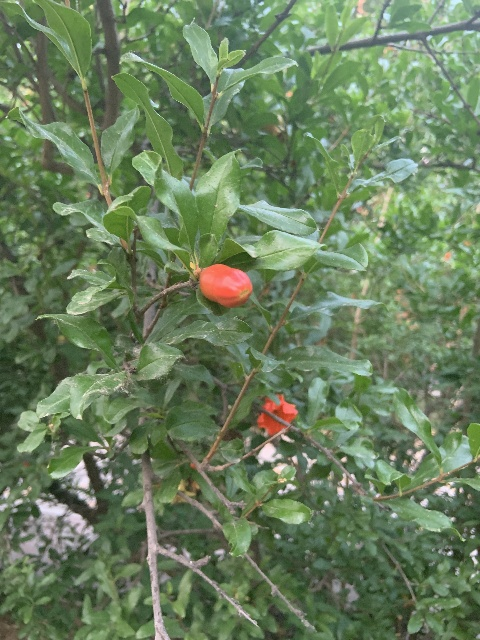bud: (198, 264, 252, 308)
flower: (256, 393, 297, 436)
